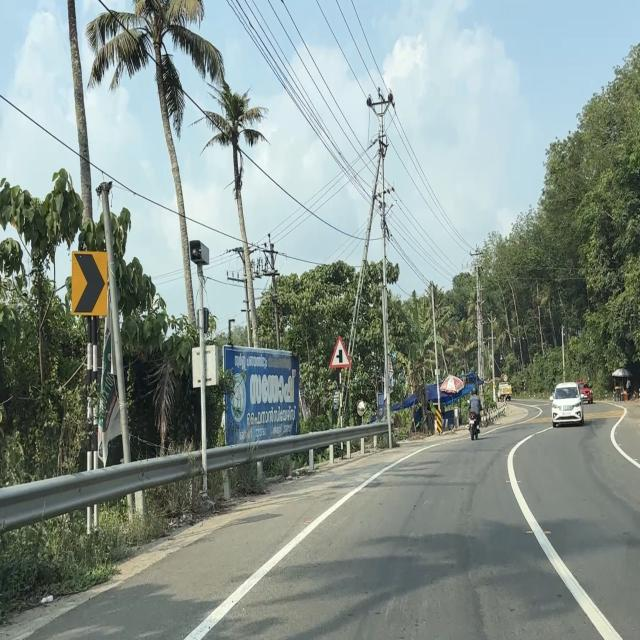SIDE_ROAD_LEFT: (329, 334, 352, 370)
TURN_RIGHT: (71, 249, 108, 317)
